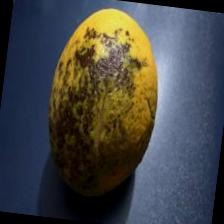Orange Rotten: (29, 0, 180, 215)
